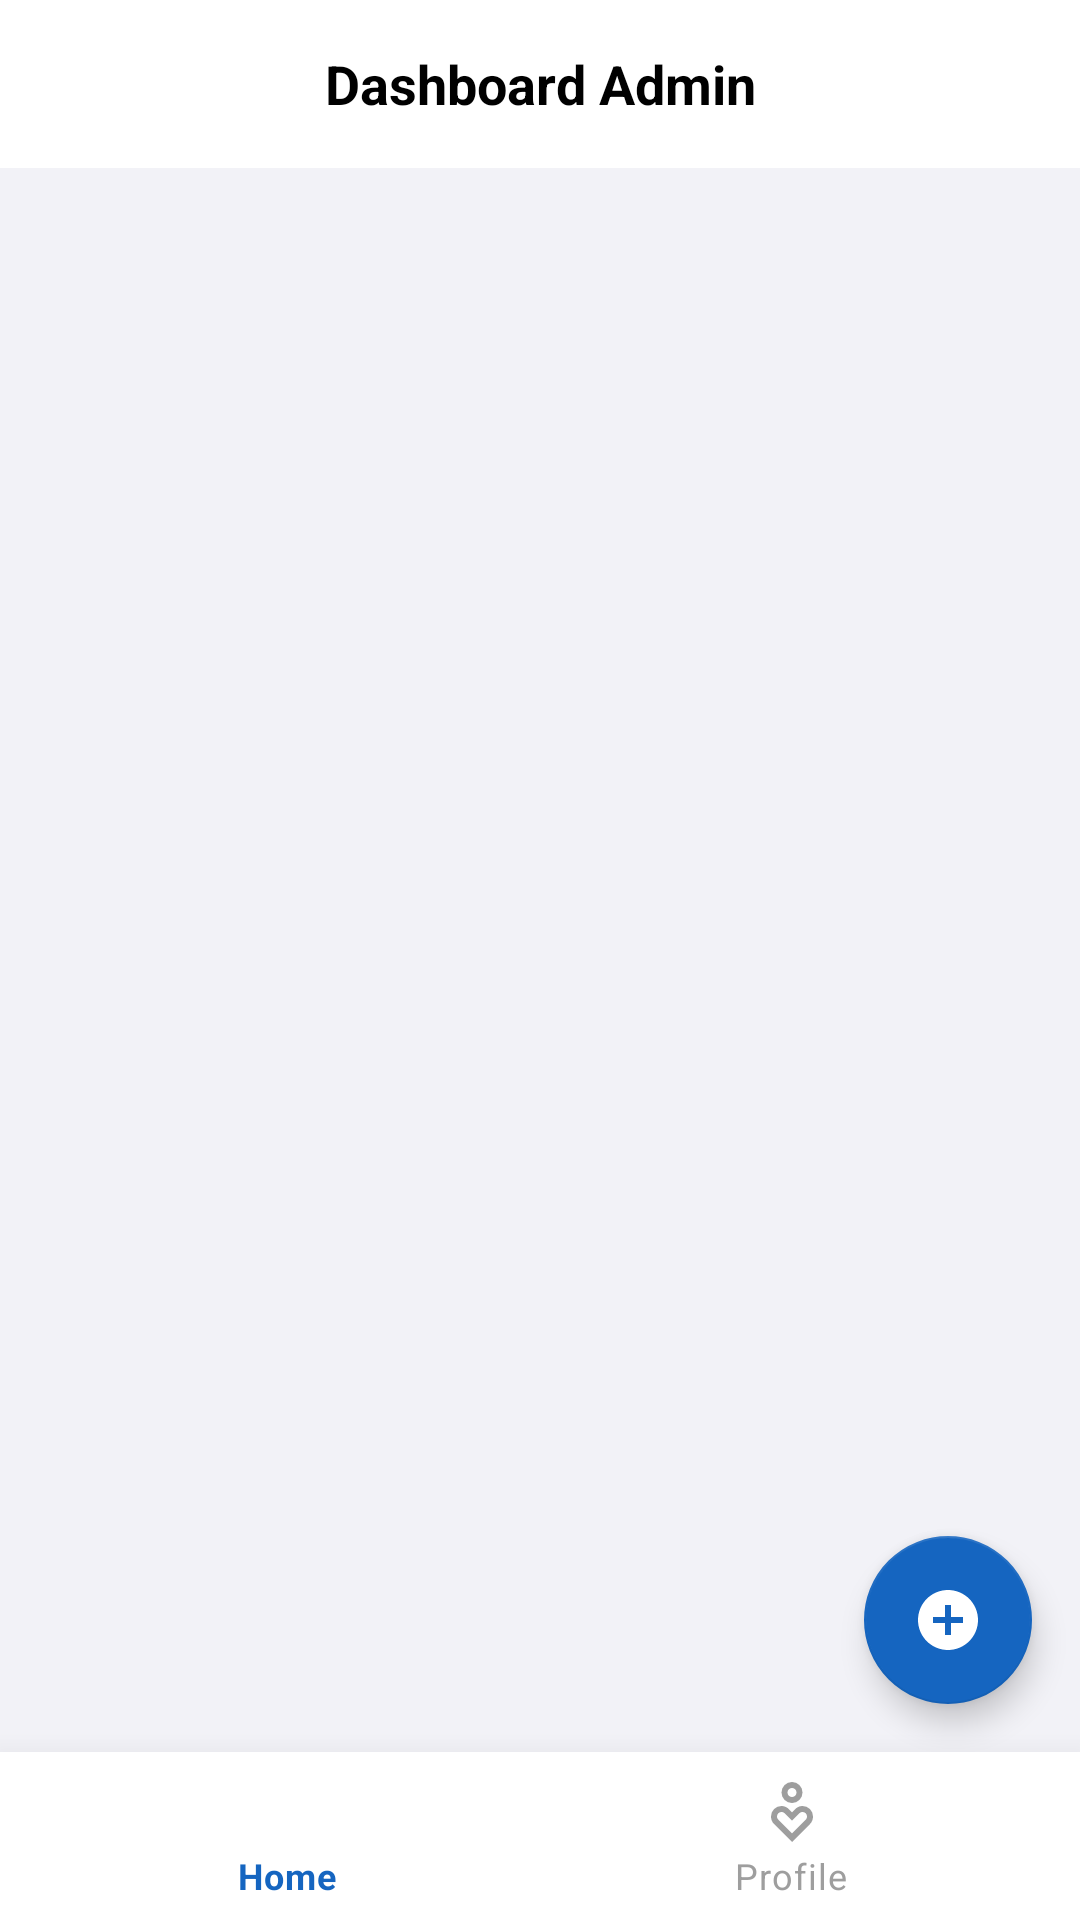

Icons on this 1080*1920 Android screen, each with the point to tap as (x,y):
add circle: (948,1620)
